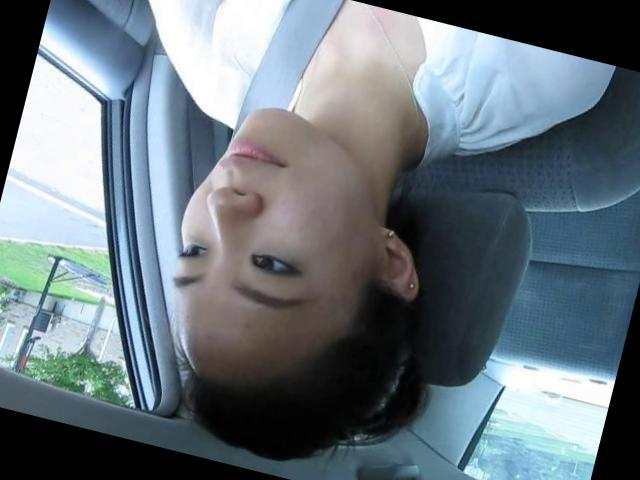eye_open: (239, 239, 309, 292), (171, 231, 215, 272)
face: (155, 89, 387, 347)
